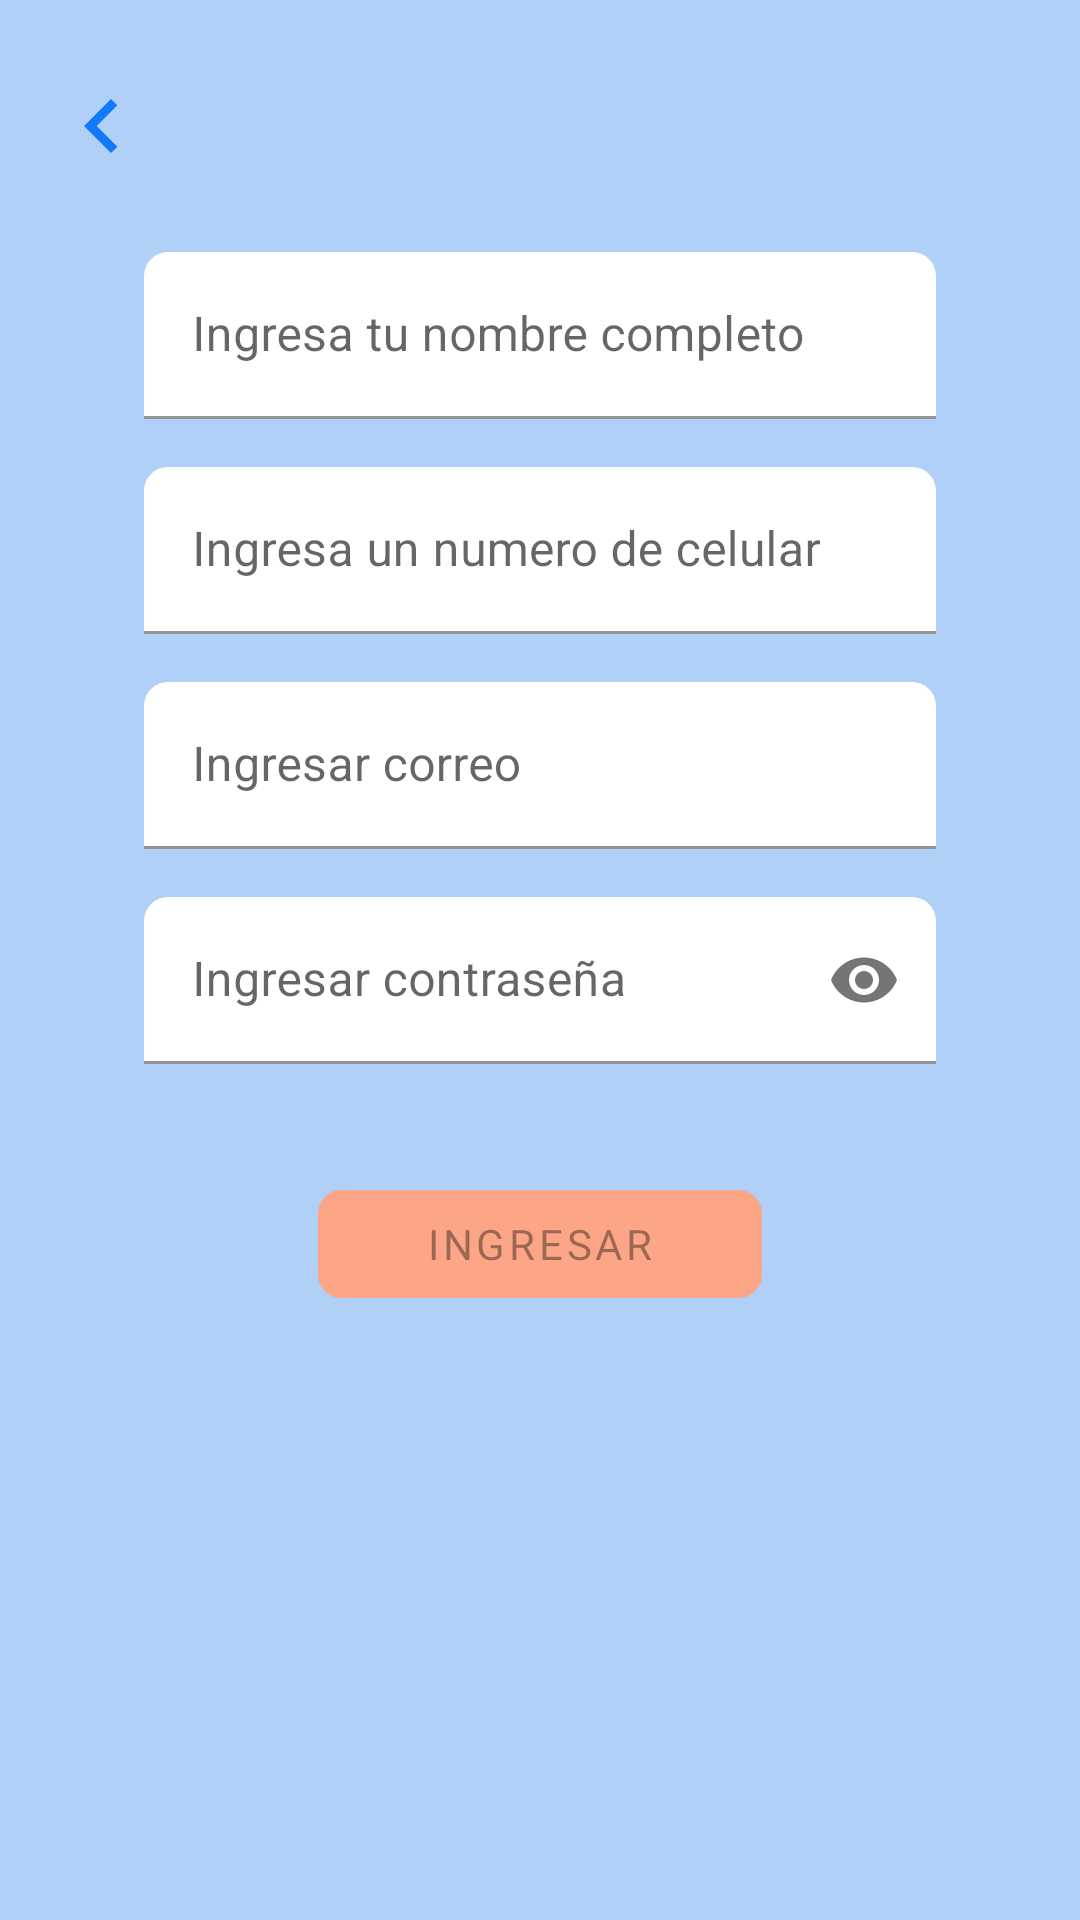

Named icons in this screenshot (1080×1920) and their centers, (x=x, y=y):
chevron left: (x=100, y=126)
